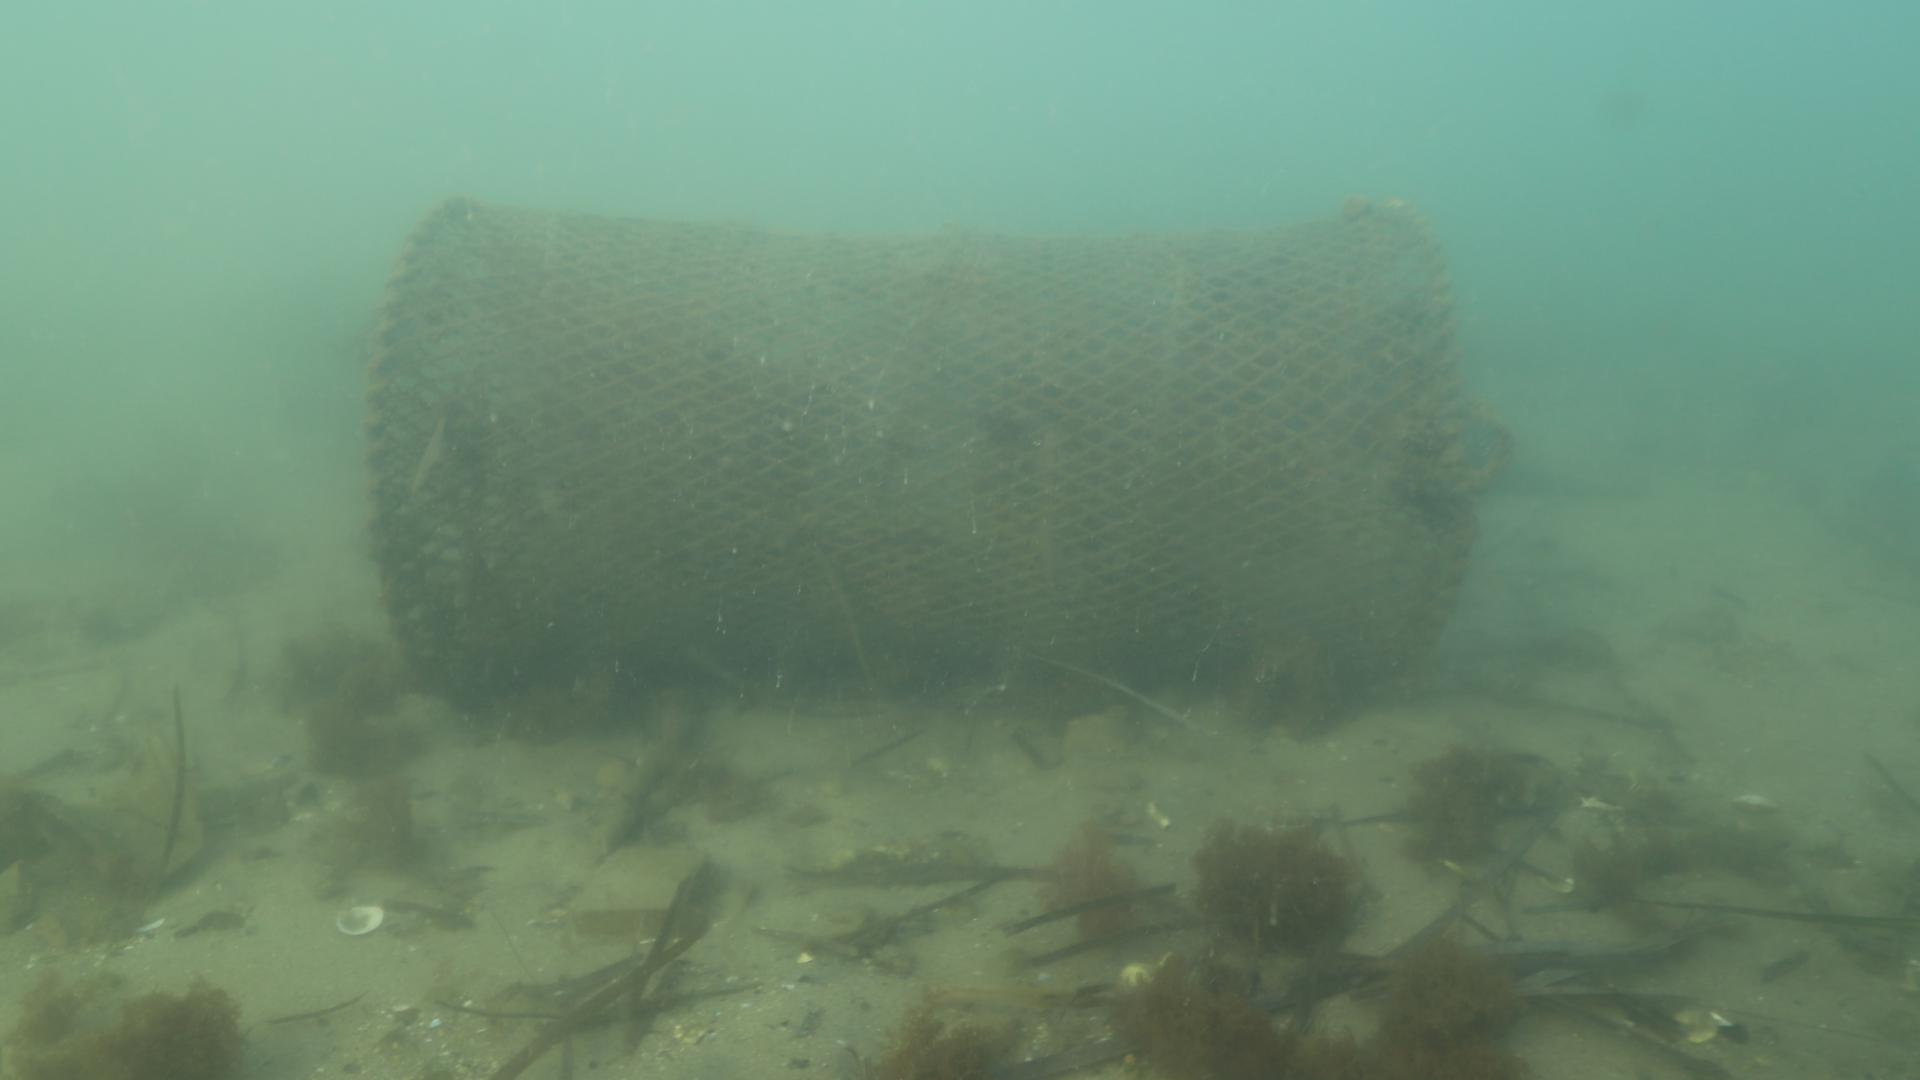spring fish trap: (360, 191, 1477, 713)
